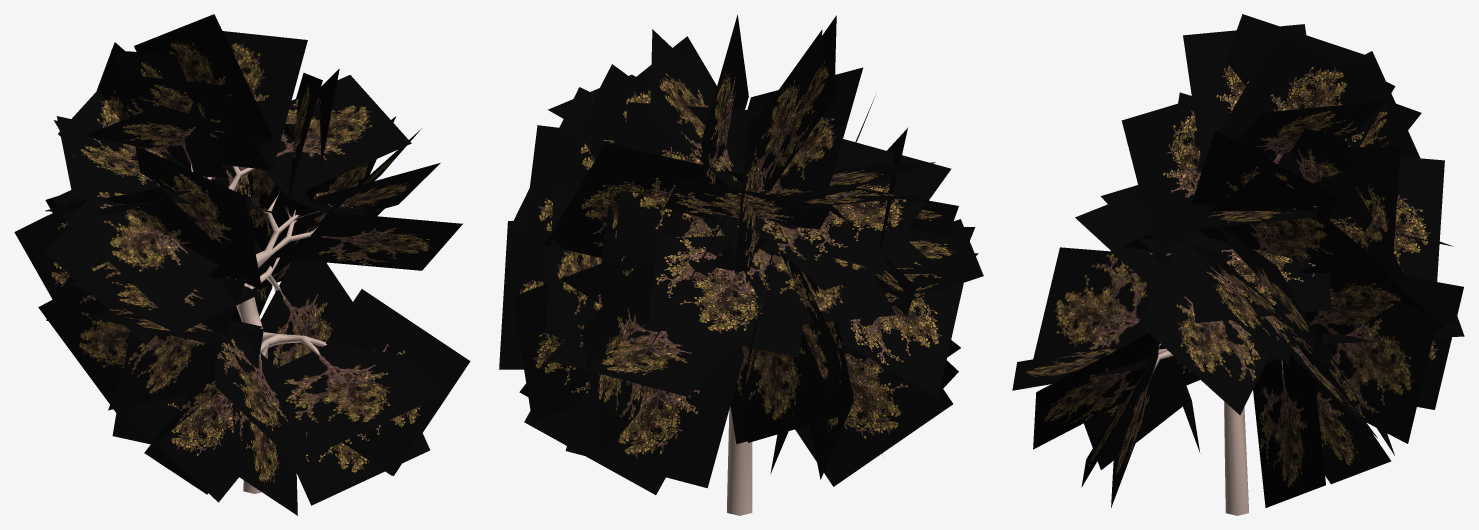
The model's file is tree37.glb.
3 views of the same model, side by side, from view 1: azimuth 30°, elevation 25°; view 2: azimuth 150°, elevation 25°; view 3: azimuth 270°, elevation 25° (orthographic). The views are drawn at different scales.
Bounding box in the file's own units: 6.2 × 7.39 × 6.42.
2 materials, 1 textured.
